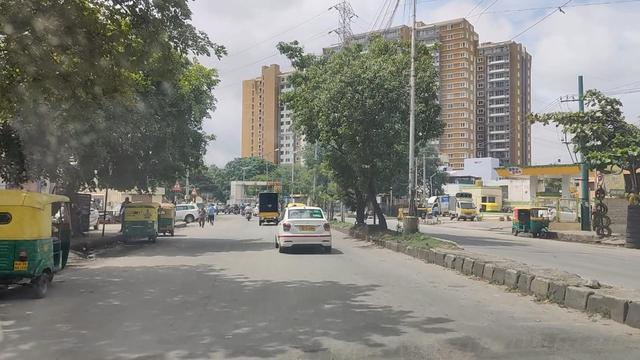LMV: (0, 192, 76, 289), (279, 205, 335, 251)
